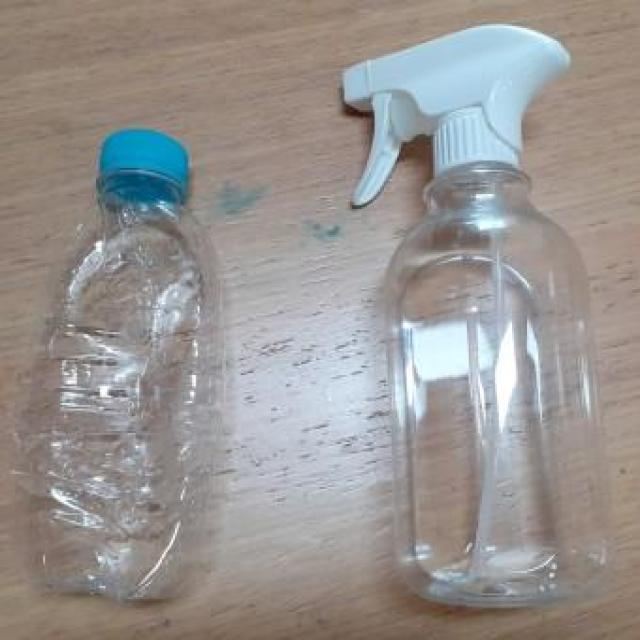bottle: (338, 27, 609, 606), (0, 118, 258, 606)
